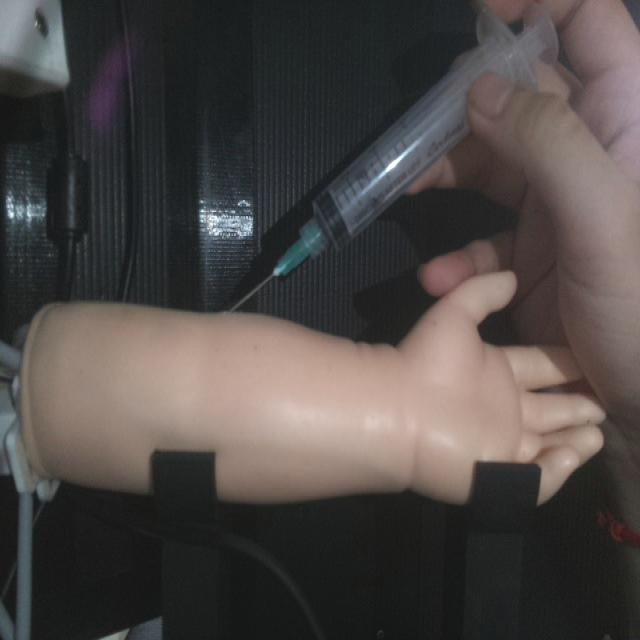Above 30 degrees: (224, 0, 561, 317)
